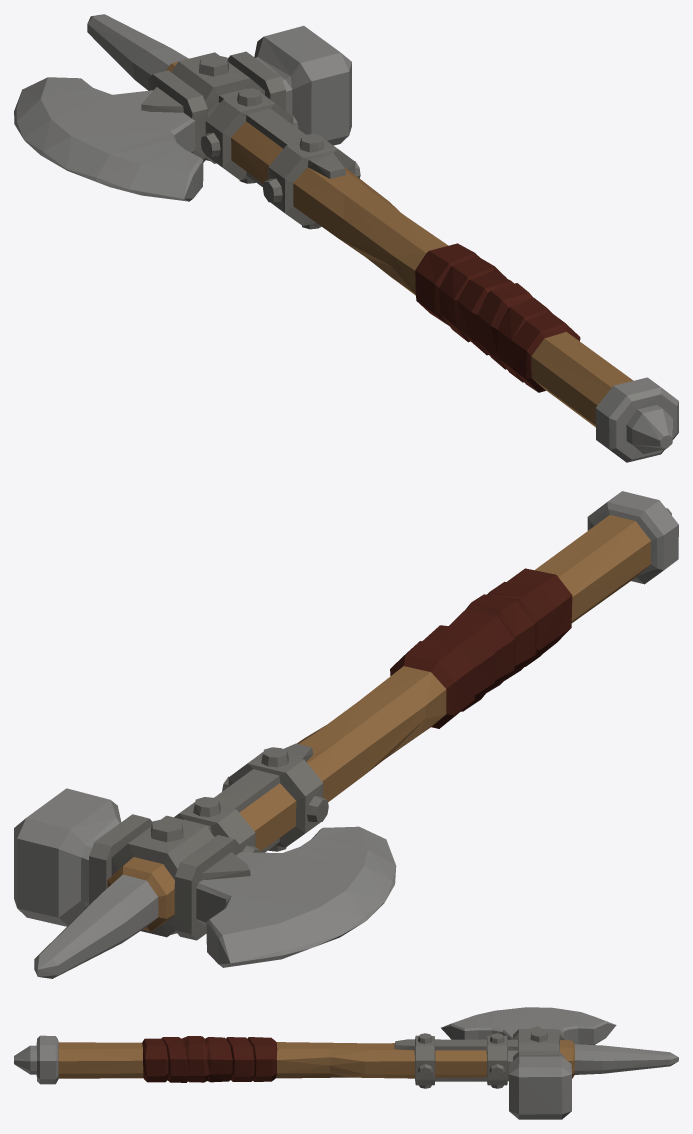
The model's file is MedievalPoleaxe.fbx.
3 views of the same model, one above another, from view 1: azimuth 30°, elevation 25°; view 2: azimuth 150°, elevation 25°; view 3: azimuth 270°, elevation 25° (orthographic). The views are drawn at different scales.
Parts seen in each view (by area): view 1: MedievalPoleaxe; view 2: MedievalPoleaxe; view 3: MedievalPoleaxe.
Part boxes in pixels (x1,y1,x2,y2): MedievalPoleaxe: (14, 14, 678, 462); MedievalPoleaxe: (14, 491, 678, 978); MedievalPoleaxe: (14, 1007, 678, 1119).
Size of the model in its own units: 0.492 by 1.64 by 0.1526.
